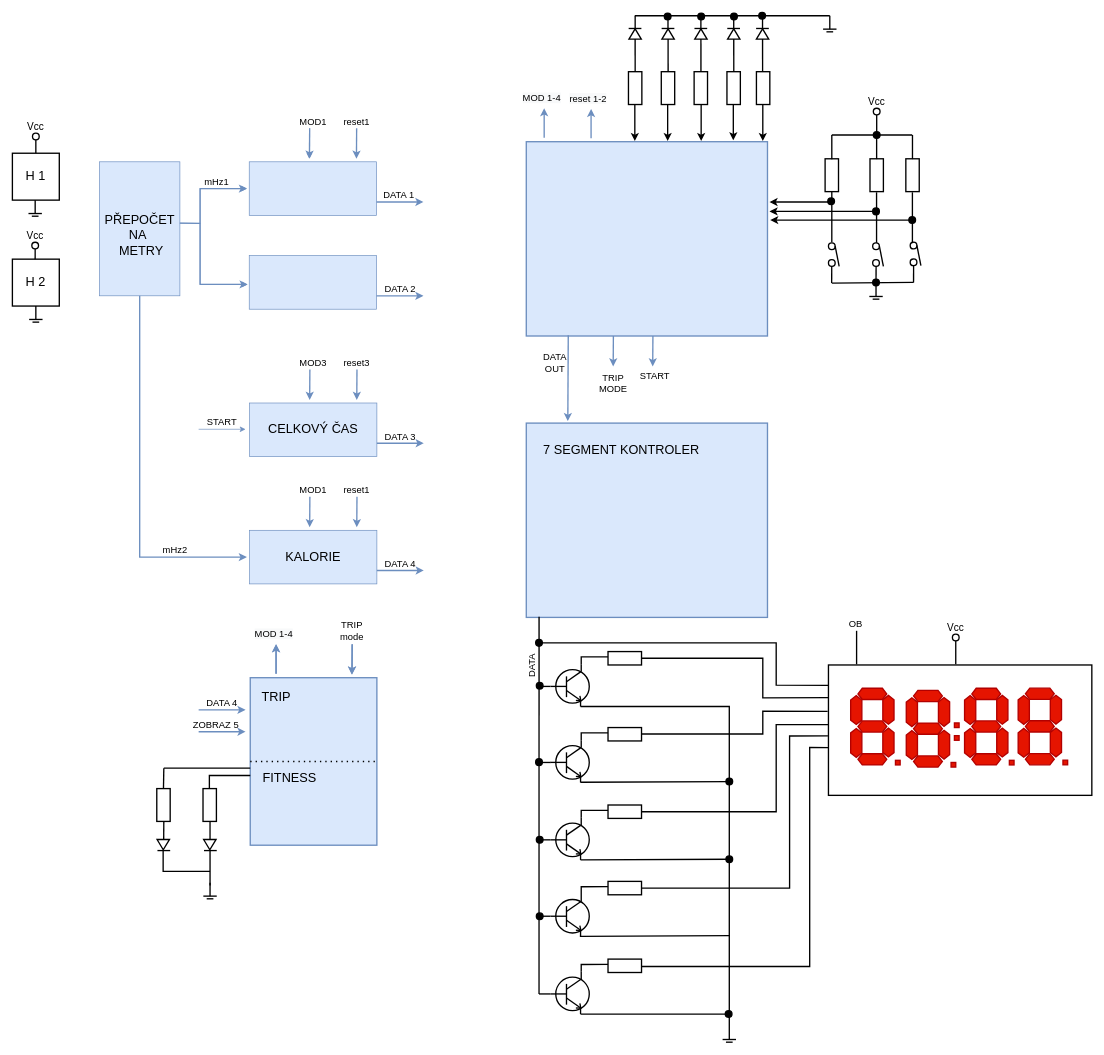
The diagram is 1104 pixels wide and 1055 high, and some of its shapes have lost their labels. Here are the shapes that lost their labels. From the top down, the centre of each, then its label:
At point 313,188: "CELKOVÁ VZDÁLENOST".
At point 646,238: "PŘEPÍNAČ REŽIMŮ + ŘAZENÍ".
At point 313,282: "PRŮMERNÁ RYCHLOST".
